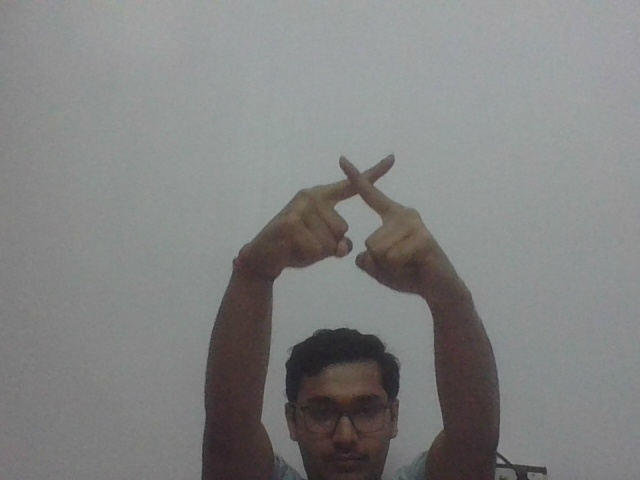X: (270, 148, 447, 291)
